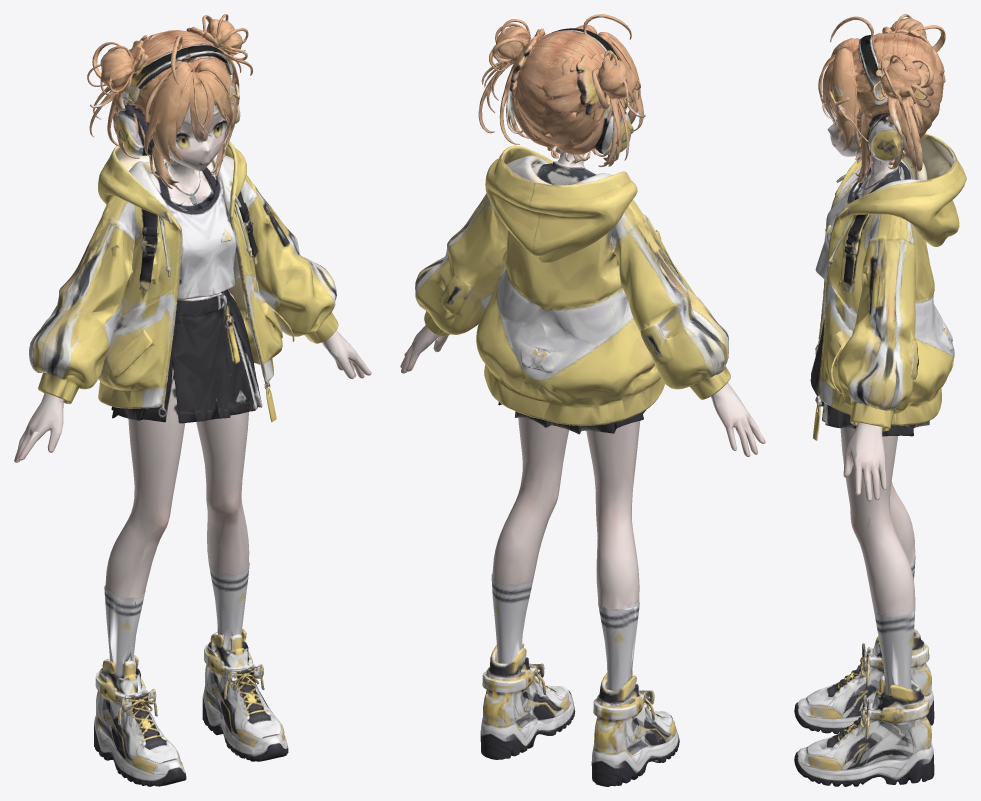
The model's file is tang_zhi.glb.
3 views of the same model, side by side, from view 1: azimuth 30°, elevation 25°; view 2: azimuth 150°, elevation 25°; view 3: azimuth 270°, elevation 25° (orthographic). The views are drawn at different scales.
Visible parts, largest first — view 1: Mesh_0; view 2: Mesh_0; view 3: Mesh_0.
Boxes of the visible parts, <box> form: Mesh_0: <box>14,14,371,786</box>; Mesh_0: <box>400,14,765,786</box>; Mesh_0: <box>794,14,966,786</box>.
Size of the model in its own units: 0.8458 by 1.65 by 0.3557.
Materials: 1 (1 with a texture image).
